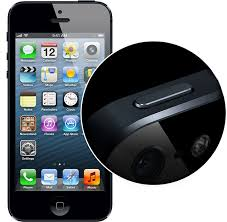iphone: (5, 1, 114, 222)
iphone5: (5, 1, 114, 222)
